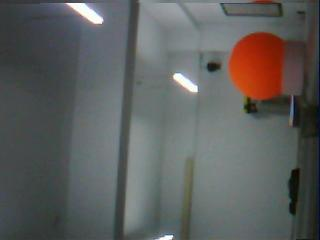oball: (228, 31, 285, 101)
